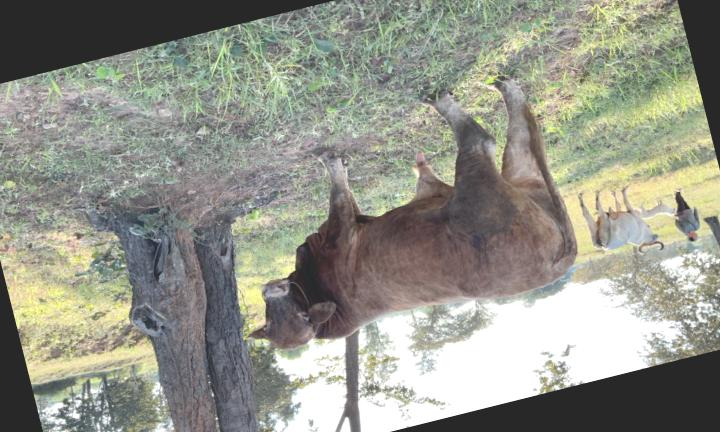Charolais: (251, 79, 577, 348)
